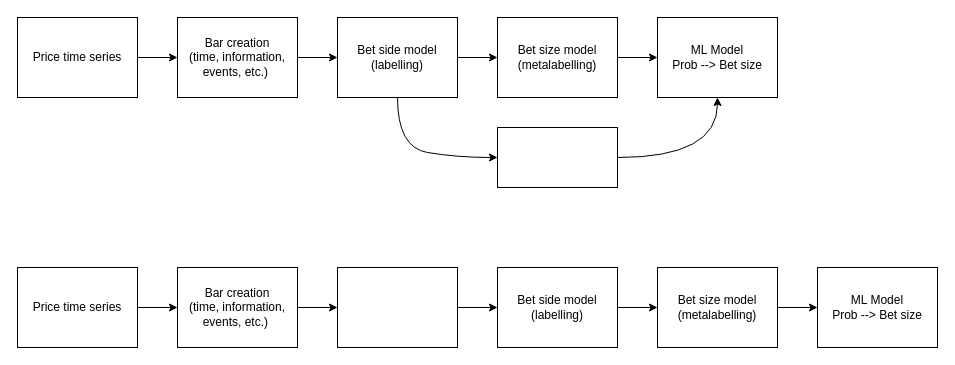
This 955x365 diagram has some shape labels left out. Each missing label, with the box of its shape:
Fractional differentiation: (336, 266, 458, 348)
Sampe weights: (496, 126, 618, 188)
